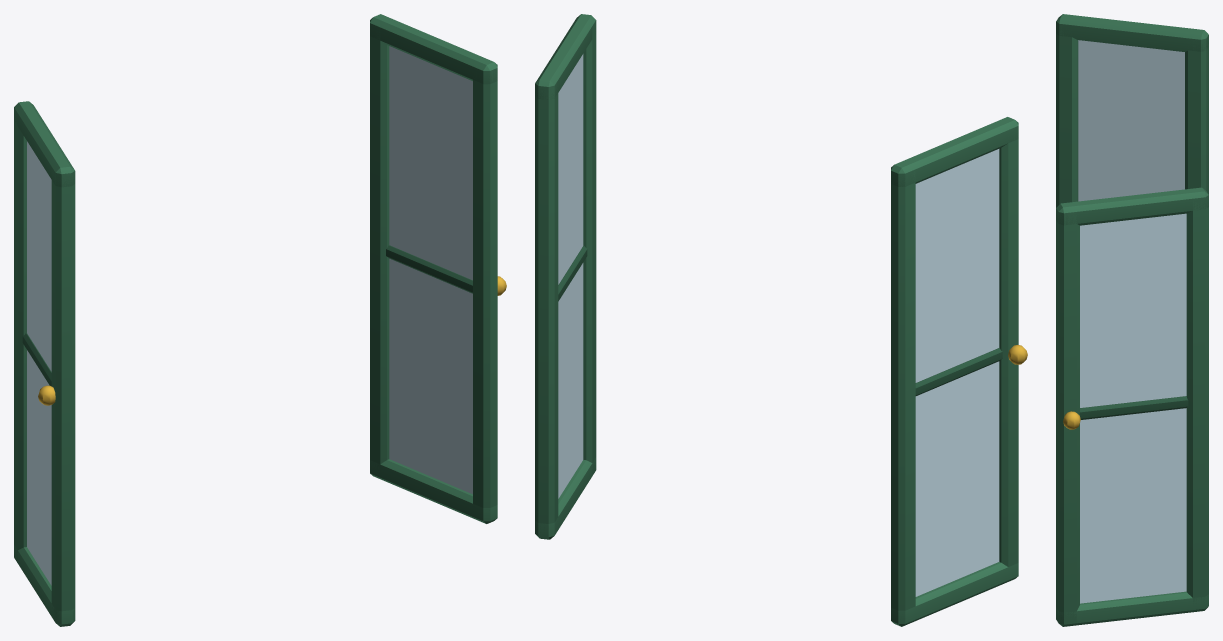
Rendered from folhas-classico.glb.
The picture shows the model from 3 angles, left to right: view 1: azimuth 30°, elevation 25°; view 2: azimuth 150°, elevation 25°; view 3: azimuth 270°, elevation 25°; orthographic projection. The views are drawn at different scales.
Visible parts, largest first — view 1: folha-dir-vidro, folha-dir-moldura, folha-esq-moldura, folha-esq-vidro; view 2: folha-esq-vidro, folha-esq-moldura, folha-dir-moldura, folha-dir-vidro; view 3: folha-dir-vidro, folha-dir-moldura, folha-esq-vidro, folha-esq-moldura.
Part boxes in pixels (box(x1,y1,x2,y2)): folha-dir-vidro: box(389, 46, 472, 494); folha-dir-moldura: box(370, 14, 506, 523); folha-esq-moldura: box(14, 101, 75, 626); folha-esq-vidro: box(27, 141, 51, 585); folha-esq-vidro: box(915, 149, 999, 596); folha-esq-moldura: box(891, 117, 1027, 626); folha-dir-moldura: box(535, 14, 596, 539); folha-dir-vidro: box(558, 54, 583, 498); folha-dir-vidro: box(1080, 213, 1186, 603); folha-dir-moldura: box(1056, 187, 1208, 626); folha-esq-vidro: box(1078, 40, 1184, 201); folha-esq-moldura: box(1056, 14, 1208, 207).
Size of the model in its own units: 1.33 by 1.25 by 0.4124.
